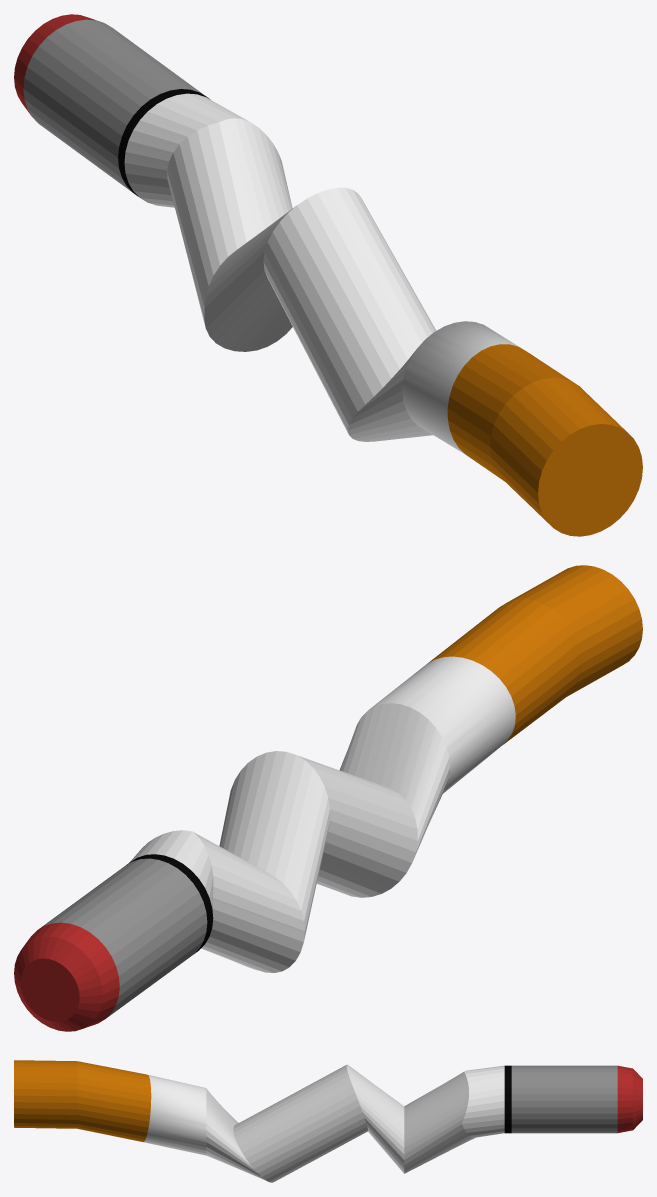
File: 曲がりタバコ3.fbx
3 views of the same model, one above another, from view 1: azimuth 30°, elevation 25°; view 2: azimuth 150°, elevation 25°; view 3: azimuth 270°, elevation 25° (orthographic). The views are drawn at different scales.
Parts seen in each view (by area): view 1: 円柱; view 2: 円柱; view 3: 円柱.
Boxes of the visible parts, x1,y1,x2,y2 form: 円柱: [14, 14, 642, 536]; 円柱: [14, 565, 642, 1031]; 円柱: [14, 1060, 642, 1182].
Bounding box in the file's own units: 19.69 × 25.87 × 131.
